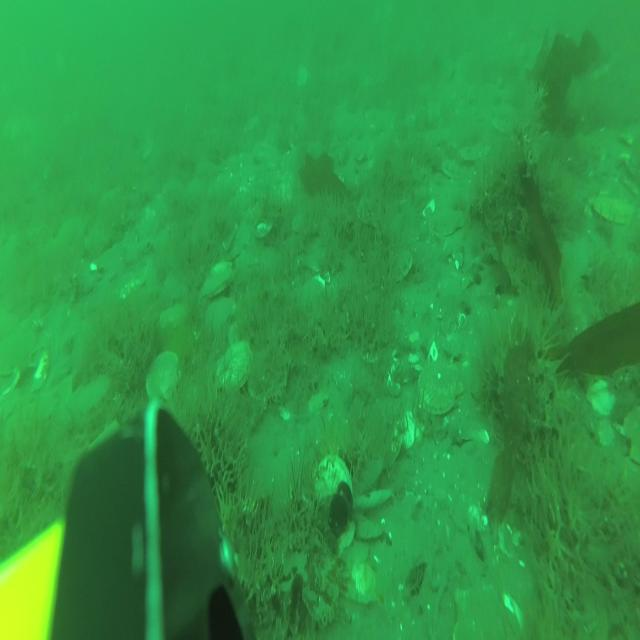scallop: (419, 357, 461, 423), (314, 450, 352, 509), (217, 337, 252, 395), (144, 351, 182, 402), (594, 190, 633, 232), (202, 290, 236, 337), (429, 204, 467, 243), (73, 373, 108, 412), (346, 561, 376, 606), (202, 258, 230, 296), (391, 245, 416, 286), (161, 301, 191, 333)
